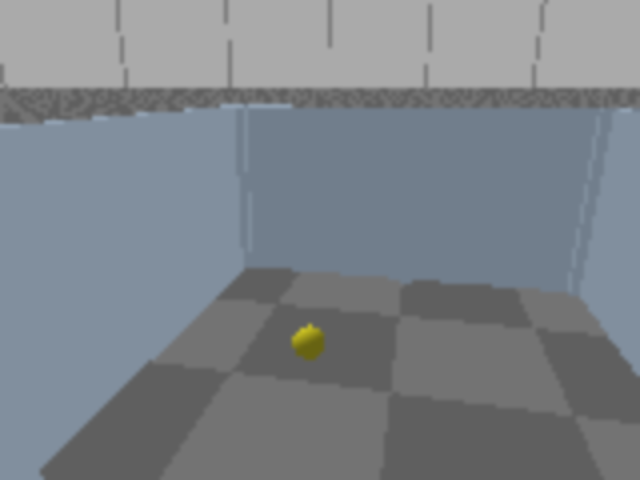puck: (287, 317, 333, 369)
